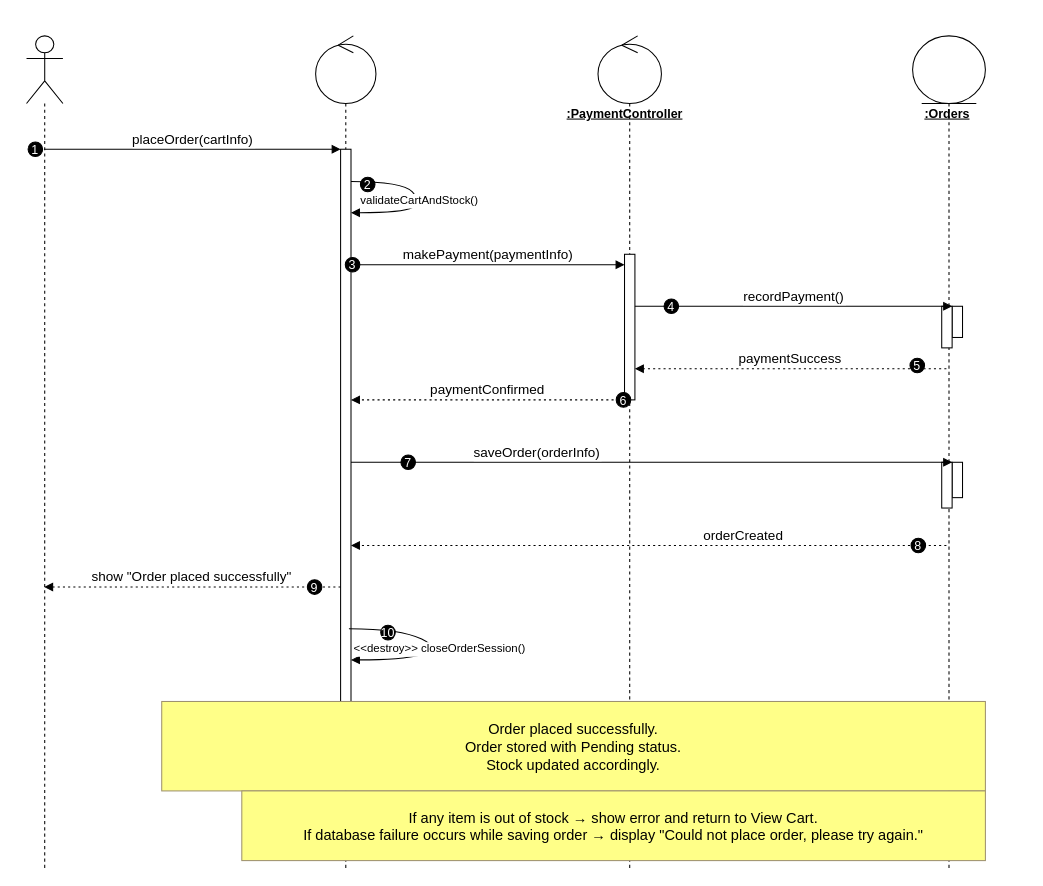
Image size: 1043x886. Some labels were removed from this diagram. Each missing label, with the box of its shape:
:OrderController: (315, 35, 376, 868)
Customer: (25, 35, 63, 868)
